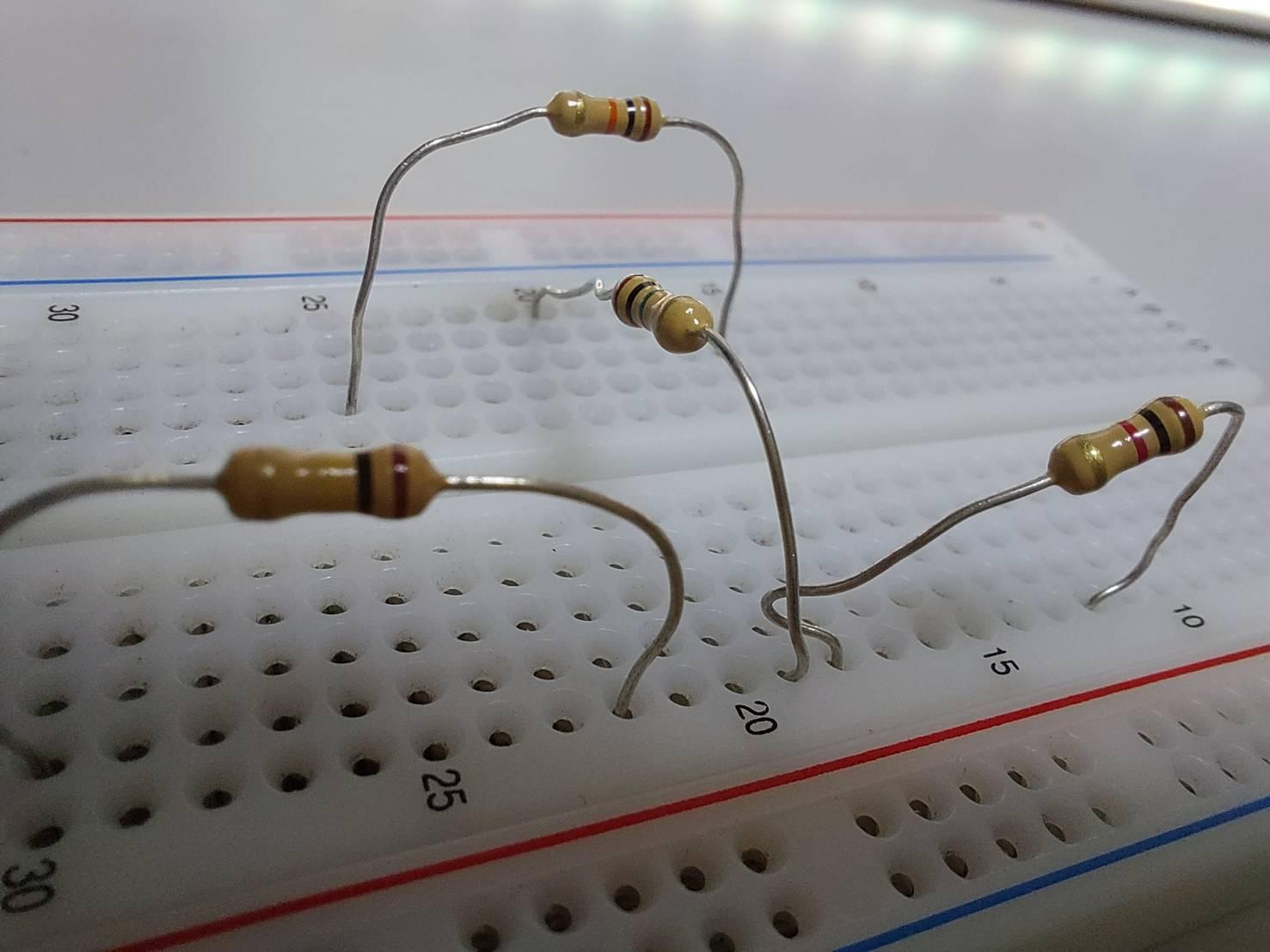resistor: (215, 437, 441, 526), (1046, 397, 1198, 506), (615, 265, 712, 348), (546, 89, 670, 149)
